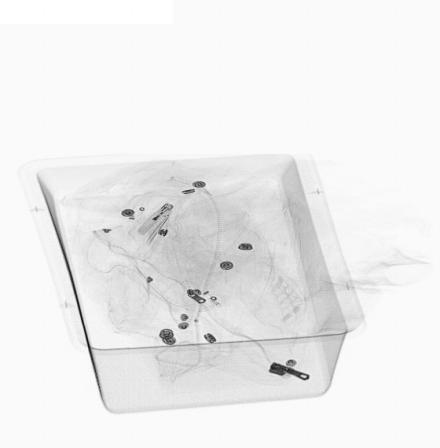Lighter: (134, 202, 179, 237)
